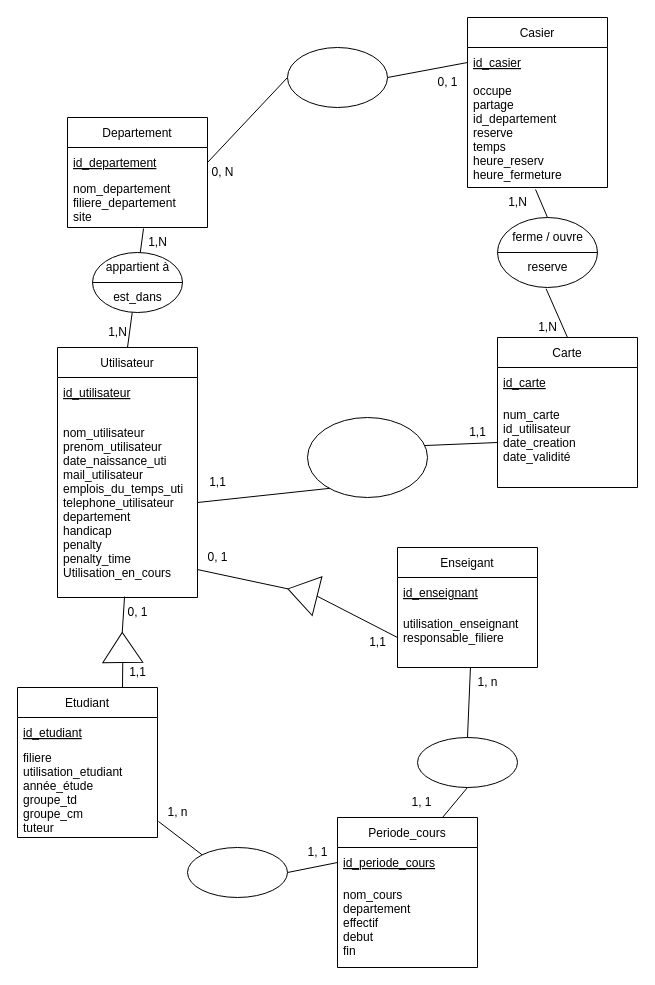
Some shapes in this 655 by 985 pixel diagram are drawn without their labels. The centre of each missing label's shape, as x and y in pixels:
"Attribué" goes at pixel 337 77.
"donne cours" goes at pixel 467 762.
"Possède une" goes at pixel 367 457.
"à cours" goes at pixel 237 872.
